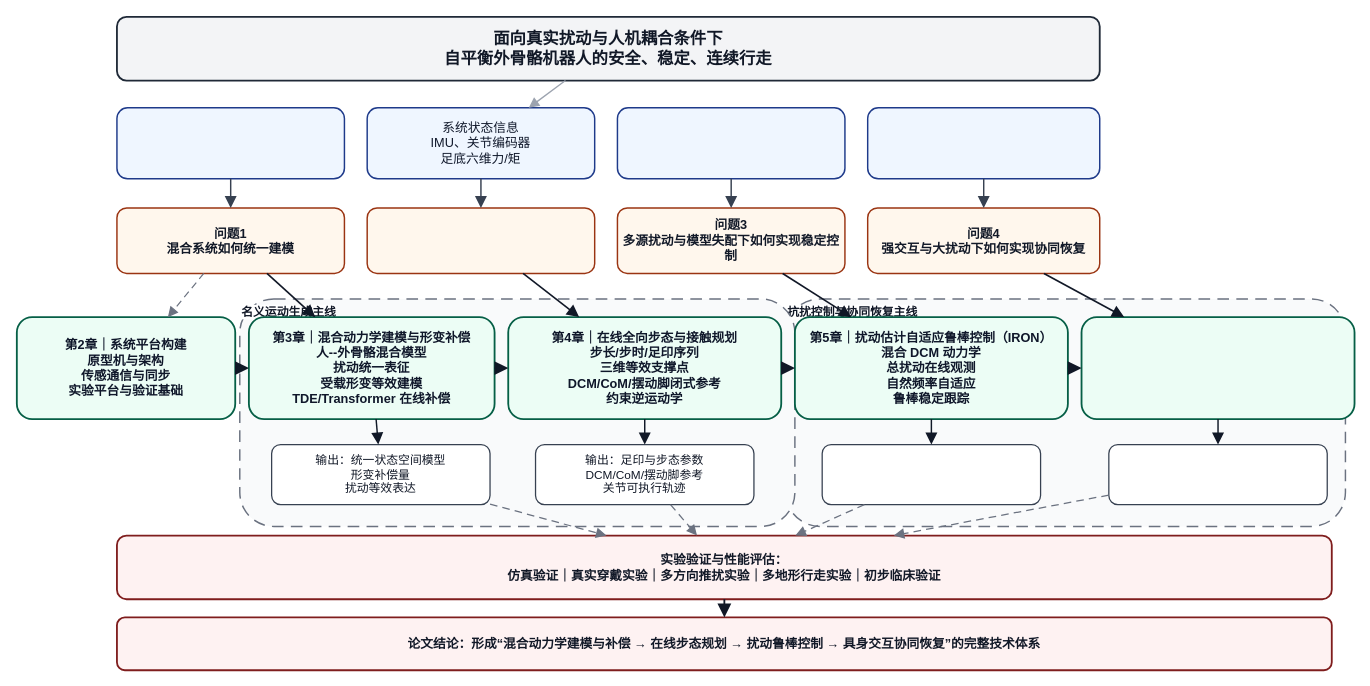
Image size: 1370x686. Some labels were removed from this diagram. Each missing label, with the centre of its shape:
"不确定因素 外界推扰、模型失配 柔顺绑缚与受载形变" belongs at pixel 983 143.
"环境与接触信息 平地、坡道、台阶、楼梯 接触切换" belongs at pixel 730 143.
"穿戴者运动意图 期望速度、方向 交互趋势" belongs at pixel 230 143.
"第6章｜具身交互协同抗扰恢复（UDREAM） 交互力在线估计 意图--安全统一权重 协同参考调制 NMPC 迈步恢复优化" belongs at pixel 1217 368.
"输出：交互感知结果 协同调节量 大扰动迈步恢复" belongs at pixel 1217 474.
"输出：扰动估计结果 鲁棒控制输入 小扰动稳定恢复" belongs at pixel 931 474.
"问题2 三维地形下如何在线生成可执行步态" belongs at pixel 480 240.
